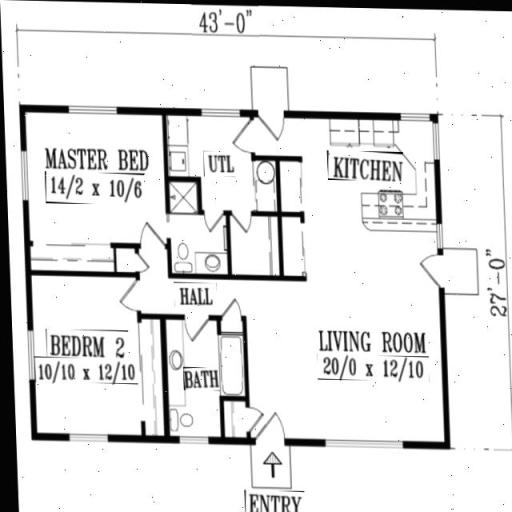Room: (26, 112, 164, 268), (34, 276, 164, 424)
bathroom: (168, 322, 242, 433)
hall: (252, 284, 437, 444), (168, 276, 250, 316)
kitchen: (299, 119, 441, 278)
